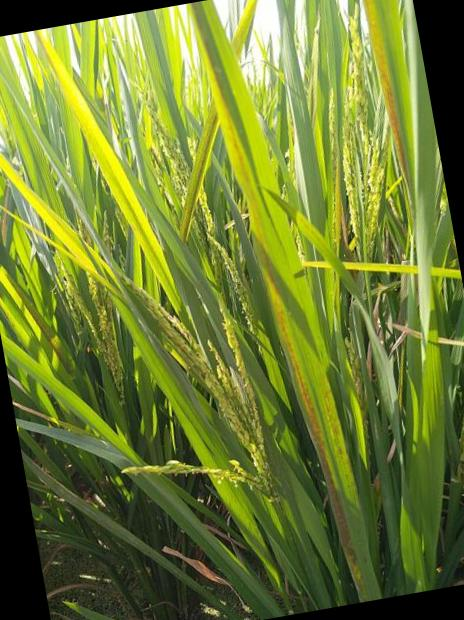Leaf Streak: (191, 2, 370, 602), (362, 0, 407, 188), (180, 101, 219, 242), (6, 273, 62, 361), (325, 379, 347, 457), (231, 0, 258, 61)
